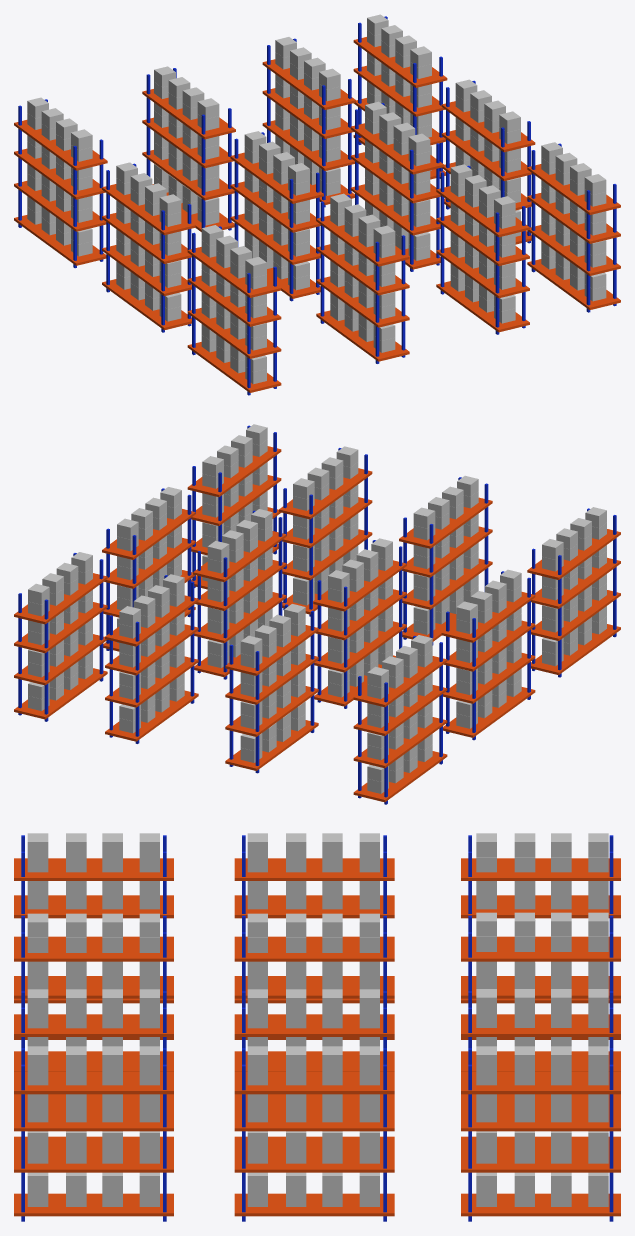
The model's file is Inventory room shelf - carton box.fbx.
3 views of the same model, one above another, from view 1: azimuth 30°, elevation 25°; view 2: azimuth 150°, elevation 25°; view 3: azimuth 270°, elevation 25° (orthographic). The views are drawn at different scales.
Visible parts, largest first — view 1: Inventory carton box 11, Inventory carton box 18, Inventory carton box 12, Inventory carton box 10, Inventory carton box 14, Inventory carton box 15, Inventory cartonbox 13, Inventory carton box 16, Inventory carton box 17, Inventory shelf 3, Inventory shelf 2, Inventory shelf 1 (+12 smaller); view 2: Inventory carton box 14, Inventory carton box 17, Inventory carton box 10, Inventory carton box 20, Inventory carton box 11, Inventory carton box 12, Inventory cartonbox 13, Inventory carton box 16, Inventory carton box 15, Inventory shelf 9, Inventory shelf 10, Inventory shelf 8 (+12 smaller); view 3: Inventory carton box 18, Inventory shelf 5, Inventory shelf 9, Inventory carton box 20, Inventory carton box 19, Inventory shelf 1, Inventory shelf 6, Inventory shelf 10, Inventory shelf 2, Inventory shelf 8, Inventory carton box 11, Inventory carton box 12 (+13 smaller).
Boxes of the visible parts, x1,y1,x2,y2 form: Inventory carton box 11: (201, 225, 266, 384); Inventory carton box 18: (541, 142, 606, 301); Inventory carton box 12: (330, 193, 395, 352); Inventory carton box 10: (116, 162, 181, 321); Inventory carton box 14: (154, 66, 219, 225); Inventory carton box 15: (450, 164, 515, 323); Inventory cartonbox 13: (244, 131, 309, 290); Inventory carton box 16: (365, 101, 430, 260); Inventory carton box 17: (275, 37, 340, 195); Inventory shelf 3: (316, 195, 409, 363); Inventory shelf 2: (436, 165, 529, 334); Inventory shelf 1: (527, 143, 620, 312); Inventory carton box 14: (240, 604, 305, 762); Inventory carton box 17: (119, 574, 184, 733); Inventory carton box 10: (456, 569, 521, 728); Inventory carton box 20: (28, 552, 92, 710); Inventory carton box 11: (542, 507, 606, 666); Inventory carton box 12: (413, 475, 478, 634); Inventory cartonbox 13: (328, 538, 392, 697); Inventory carton box 16: (207, 509, 272, 668); Inventory carton box 15: (293, 446, 358, 605); Inventory shelf 9: (14, 553, 107, 721); Inventory shelf 10: (105, 575, 198, 743); Inventory shelf 8: (441, 571, 535, 740); Inventory carton box 18: (27, 1046, 159, 1206); Inventory shelf 5: (234, 1048, 394, 1221); Inventory shelf 9: (461, 1048, 620, 1221); Inventory carton box 20: (476, 1046, 608, 1206); Inventory carton box 19: (247, 1046, 379, 1206); Inventory shelf 1: (14, 1048, 173, 1221); Inventory shelf 6: (234, 991, 394, 1149); Inventory shelf 10: (461, 991, 620, 1149); Inventory shelf 2: (14, 991, 173, 1149); Inventory shelf 8: (234, 835, 394, 1003); Inventory carton box 11: (27, 833, 159, 909); Inventory carton box 12: (27, 913, 159, 989).
Bounding box in the file's own units: 2264 × 735 × 2495.
